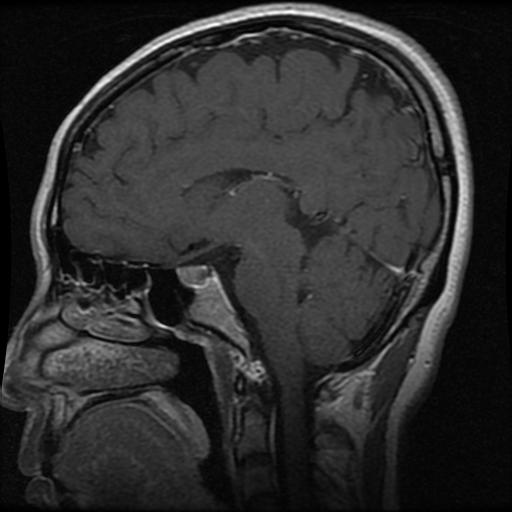Pituirity_tumour: (178, 264, 210, 285)
